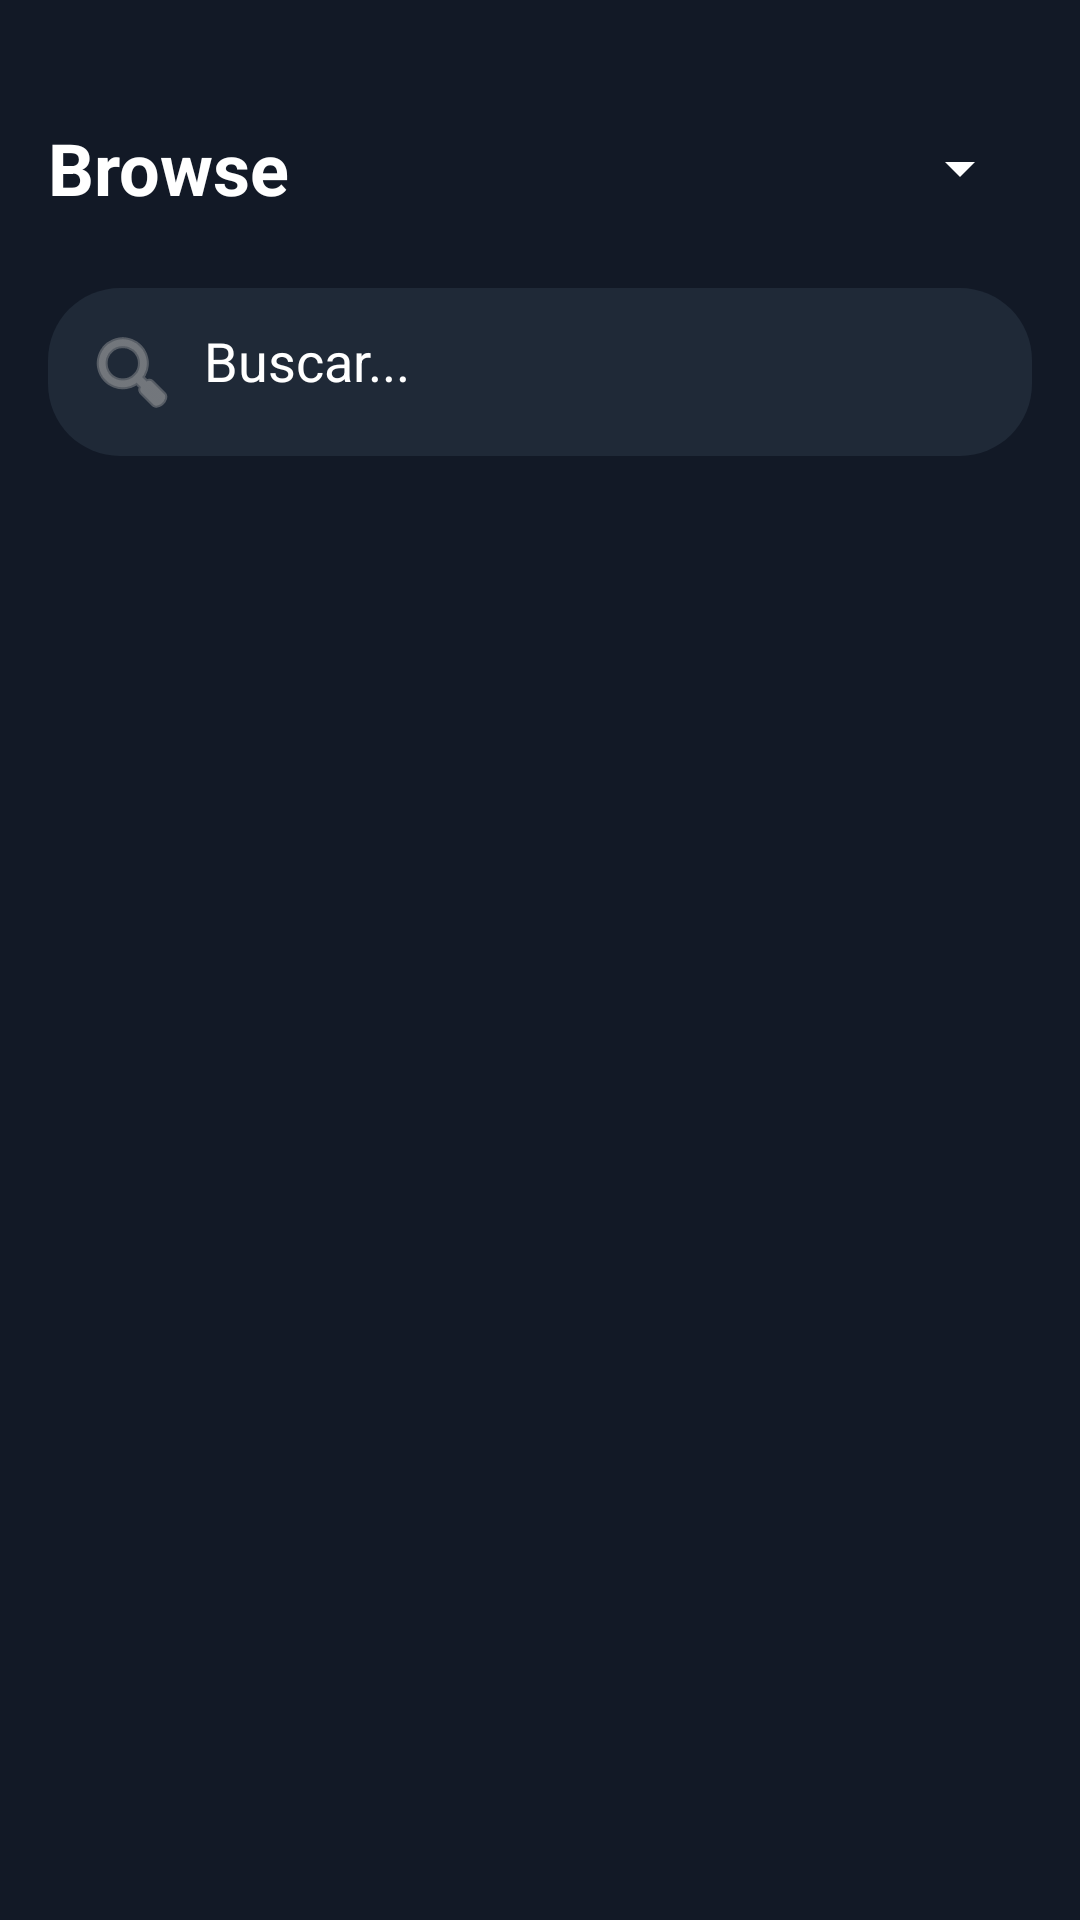

Screen size 1080 × 1920. Icon name, then its center in pixels as [x,y]:
search: [132,372]
